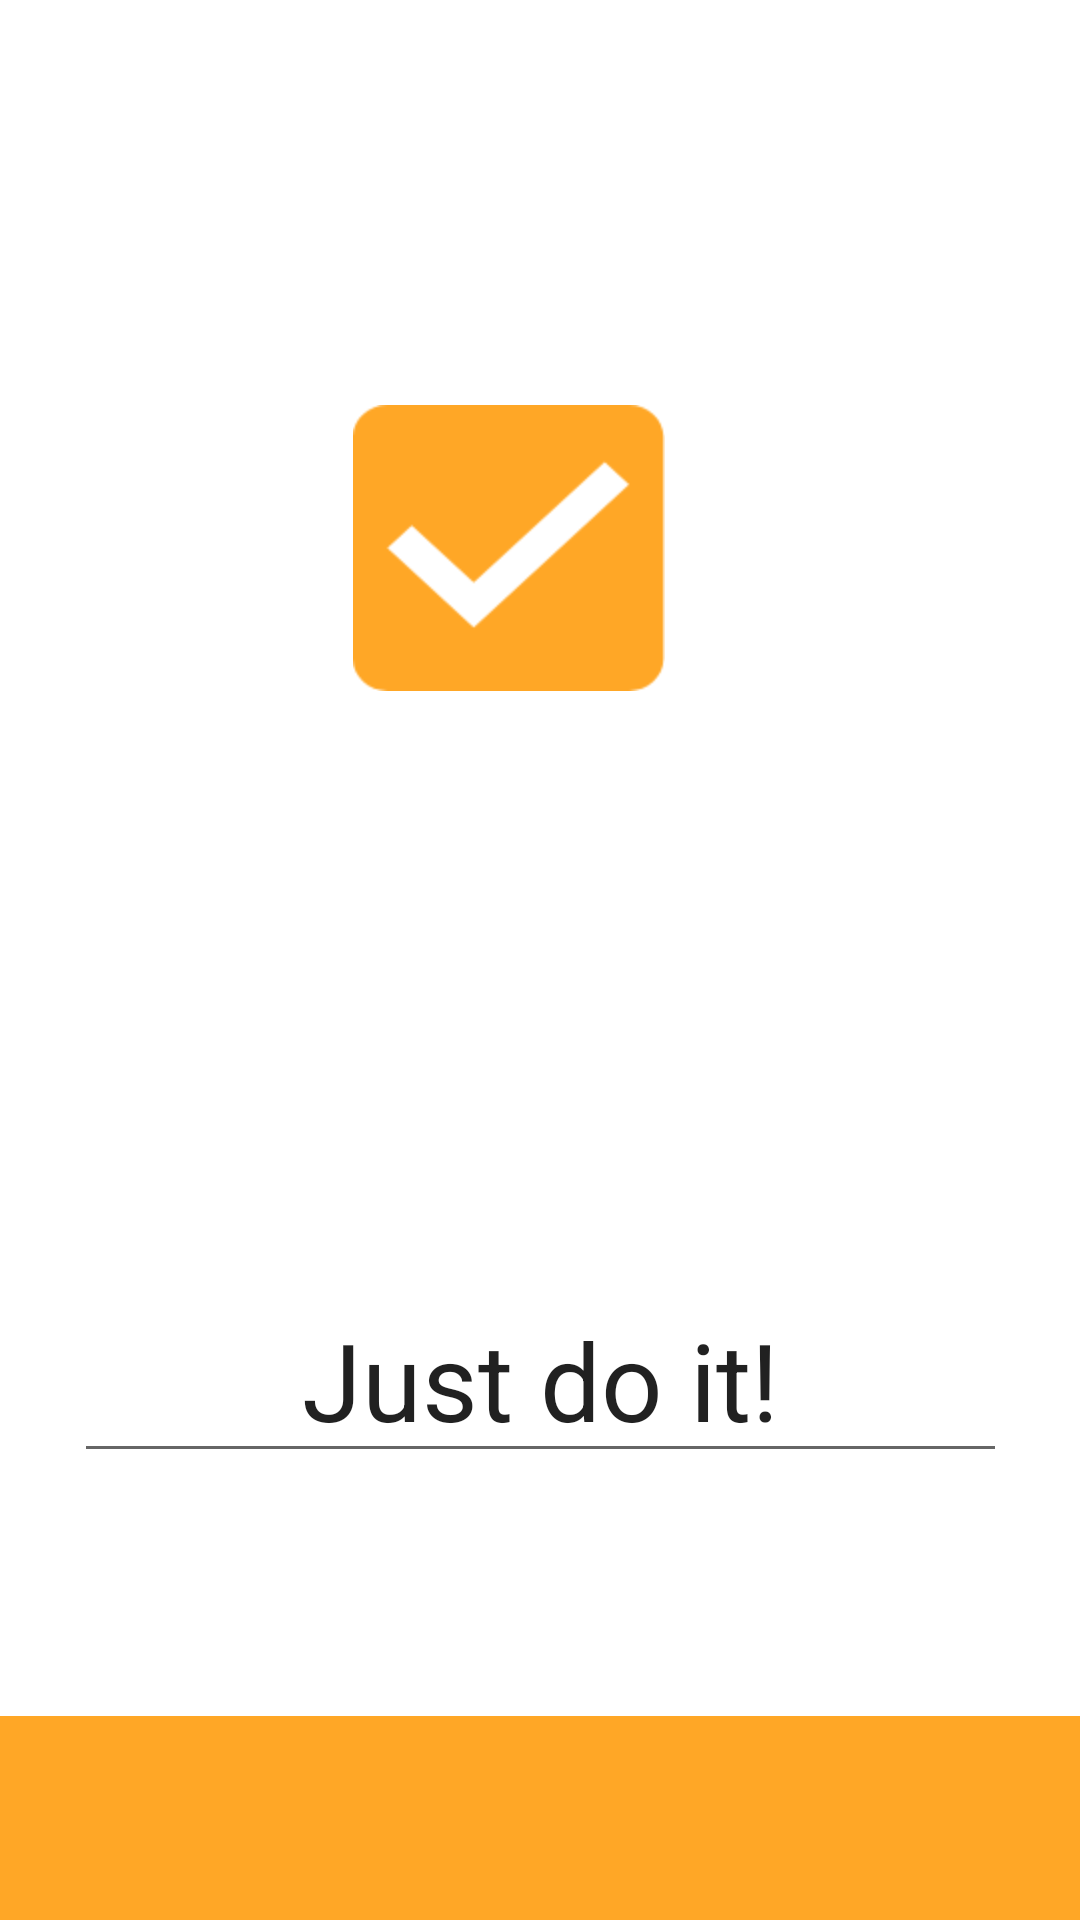

Point at icon controls on the screen. Image size 1080×1920, points as [x,y].
toggle check box: [509,548]
